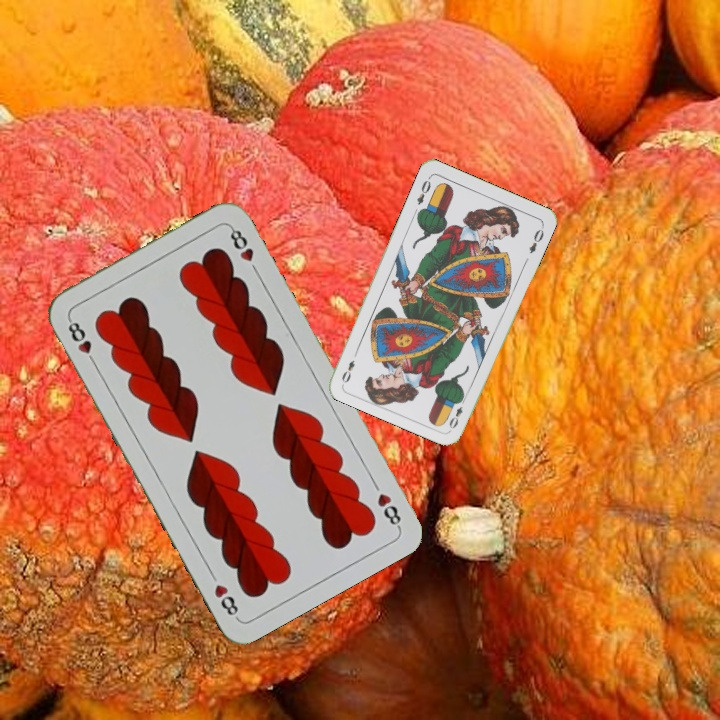EO: (445, 393, 469, 431), (413, 173, 433, 208)
H8: (63, 314, 99, 368), (368, 476, 404, 530)
